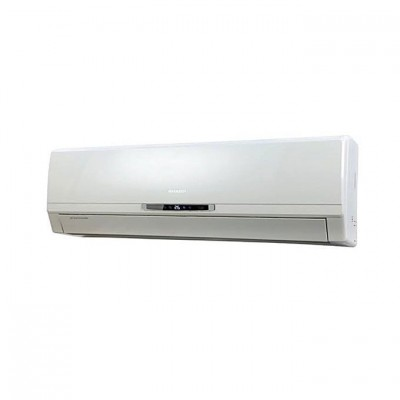ac: (46, 133, 366, 260)
